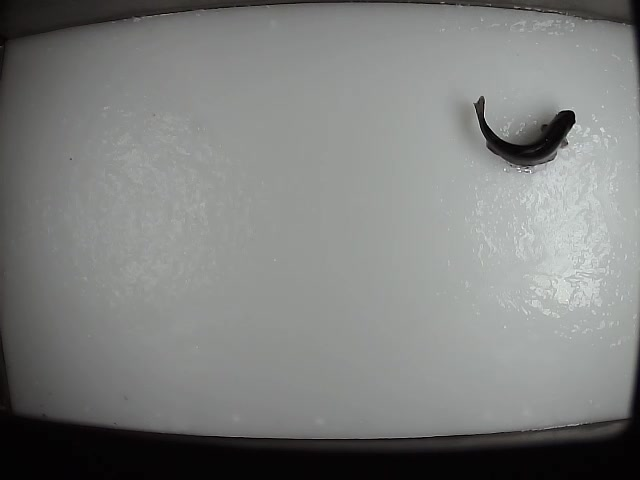fish: (470, 93, 577, 170)
